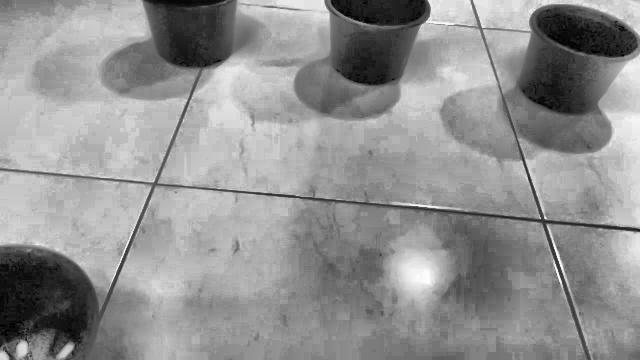pot: (518, 4, 640, 114), (0, 246, 98, 360), (325, 0, 430, 84), (142, 0, 236, 68)
